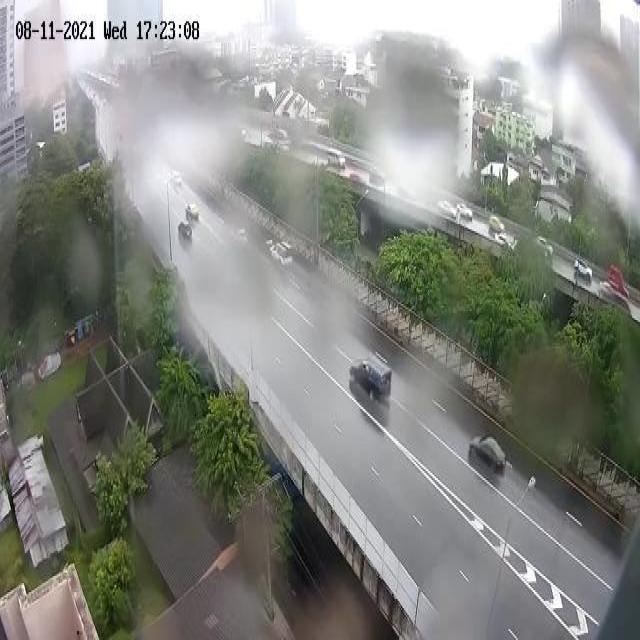Car: (458, 421, 524, 491), (566, 259, 600, 286), (266, 238, 292, 272), (173, 220, 199, 244), (183, 196, 200, 228)
Van: (340, 352, 400, 413)
